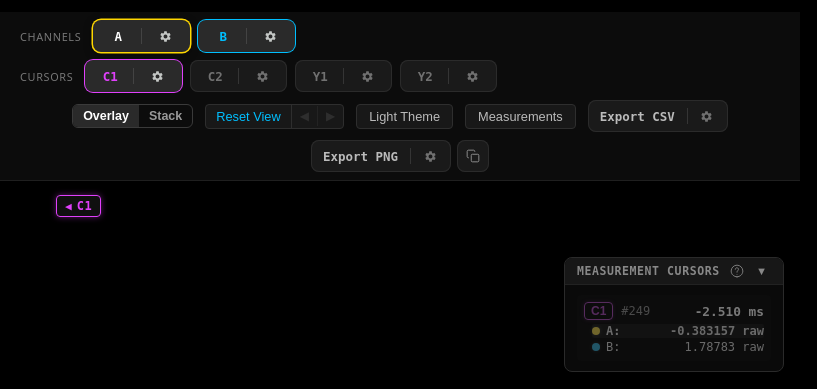
Scenario: Out-of-view Cursor Recovery (Issue #15) › AC6, AC7 & AC8: Clicking or keyboard activating badge recovers C1 to 33%, snaps to sample, selects cursor, and dismisses badge
The image size is (817, 389).
Note: Click badge to recover C1
Click the button with test id "cursor-recovery-badge-c1": (79, 206) [56,195,101,217]
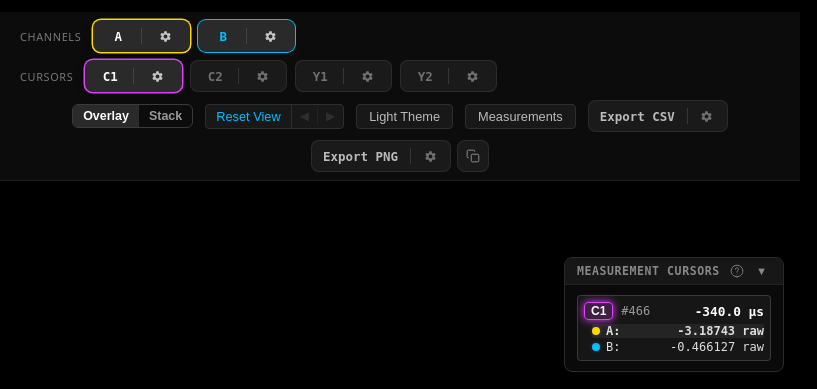
Expected: the button with test id "cursor-recovery-badge-c1" is gone
